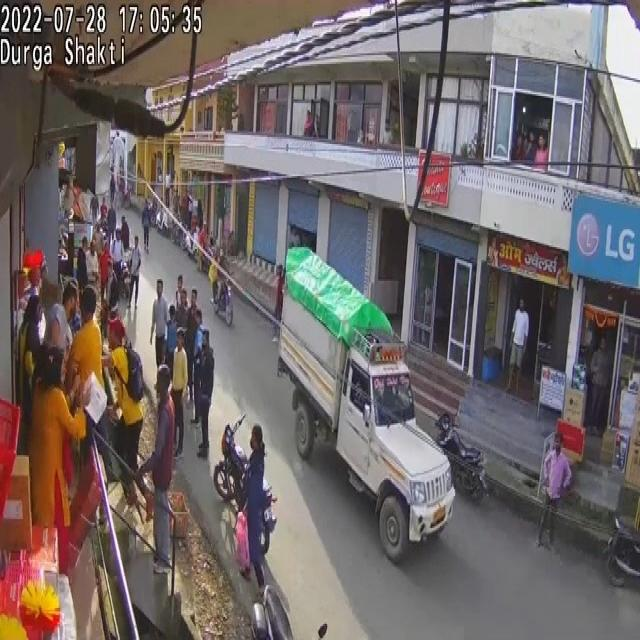fight: (11, 248, 137, 556), (64, 288, 119, 514), (28, 344, 86, 552), (17, 272, 64, 461), (107, 325, 147, 513)
non-fight: (136, 362, 177, 575), (242, 424, 270, 600), (536, 434, 572, 552), (177, 370, 196, 506), (192, 327, 212, 456), (588, 337, 611, 434), (506, 298, 529, 390), (150, 281, 169, 374), (183, 313, 199, 415), (271, 264, 285, 346), (127, 238, 141, 312), (208, 252, 220, 304), (141, 201, 151, 253), (110, 172, 116, 204)
